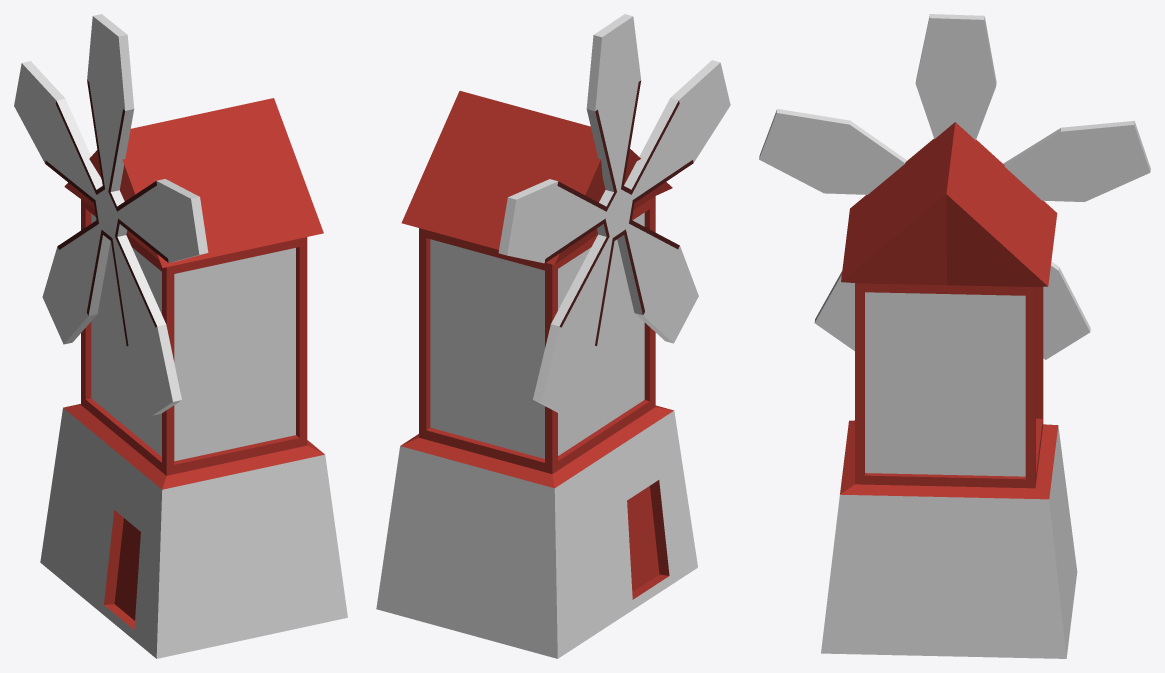
File: LowPolyMill.obj
3 views of the same model, side by side, from view 1: azimuth 30°, elevation 25°; view 2: azimuth 150°, elevation 25°; view 3: azimuth 270°, elevation 25° (orthographic). The views are drawn at different scales.
Parts seen in each view (by area): view 1: Mill, propeller; view 2: Mill, propeller; view 3: Mill, propeller.
Part boxes in pixels (x1,y1,x2,y2): Mill: (40, 98, 347, 658); propeller: (14, 14, 208, 415); Mill: (376, 91, 697, 658); propeller: (498, 14, 730, 415); Mill: (821, 122, 1077, 658); propeller: (759, 14, 1150, 359).
Size of the model in its own units: 0.6025 by 1.7 by 1.08.
3 materials, 3 textured.
